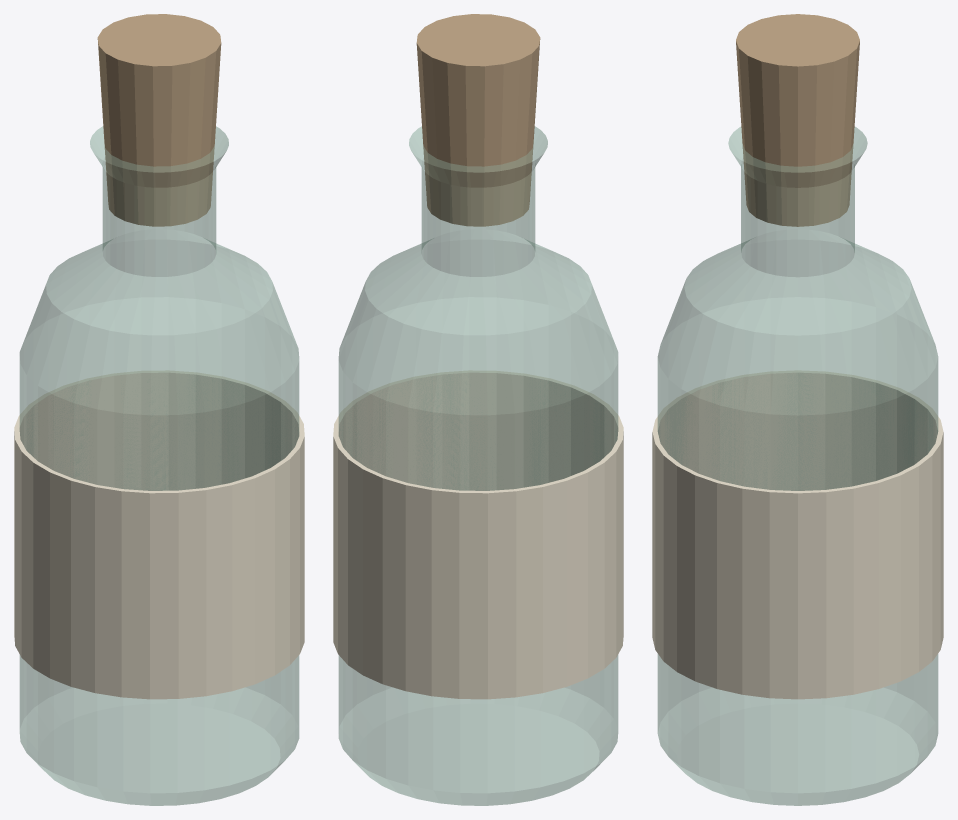
File: Prop_ApothecaryVial.fbx
3 renders of one model, left to right at view 1: azimuth 30°, elevation 25°; view 2: azimuth 150°, elevation 25°; view 3: azimuth 270°, elevation 25°, orthographic.
Parts seen in each view (by area): view 1: ApothecaryVial_Glass, ApothecaryVial_Label, ApothecaryVial_Cork; view 2: ApothecaryVial_Glass, ApothecaryVial_Label, ApothecaryVial_Cork; view 3: ApothecaryVial_Glass, ApothecaryVial_Label, ApothecaryVial_Cork.
Boxes of the visible parts, left/top/right/bottom form: ApothecaryVial_Glass: left=19, top=126, right=299, bottom=805; ApothecaryVial_Label: left=14, top=370, right=304, bottom=699; ApothecaryVial_Cork: left=97, top=14, right=221, bottom=226; ApothecaryVial_Glass: left=338, top=126, right=618, bottom=805; ApothecaryVial_Label: left=333, top=370, right=623, bottom=699; ApothecaryVial_Cork: left=416, top=14, right=540, bottom=226; ApothecaryVial_Glass: left=657, top=127, right=938, bottom=805; ApothecaryVial_Label: left=652, top=370, right=943, bottom=699; ApothecaryVial_Cork: left=736, top=14, right=859, bottom=226.
Bounding box in the file's own units: 0.0384 × 0.104 × 0.0384.
